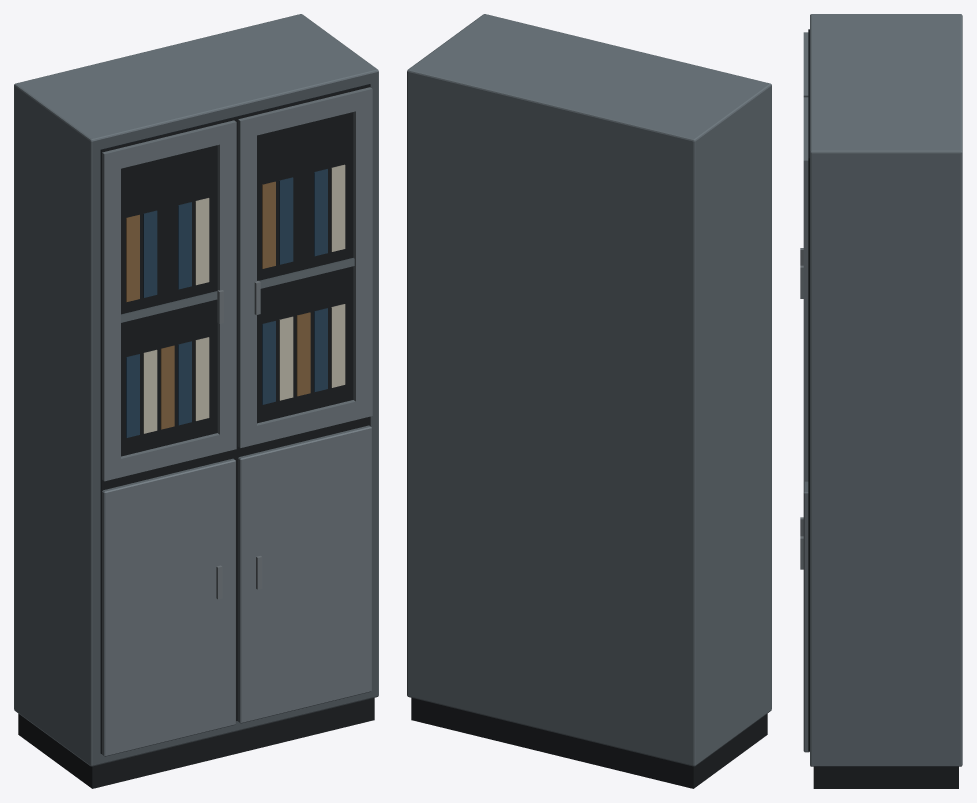
Rendered from prop_school_file_cabinet.glb.
The picture shows the model from 3 angles, left to right: view 1: azimuth 30°, elevation 25°; view 2: azimuth 150°, elevation 25°; view 3: azimuth 270°, elevation 25°; orthographic projection.
Visible parts, largest first — view 1: prop_school_file_cabinet; view 2: prop_school_file_cabinet; view 3: prop_school_file_cabinet.
Boxes of the visible parts, x1=… form: prop_school_file_cabinet: x1=14, y1=14, x2=378, y2=788; prop_school_file_cabinet: x1=407, y1=14, x2=771, y2=788; prop_school_file_cabinet: x1=800, y1=14, x2=962, y2=788.
Bounding box in the file's own units: 0.9 × 1.94 × 0.4459.
